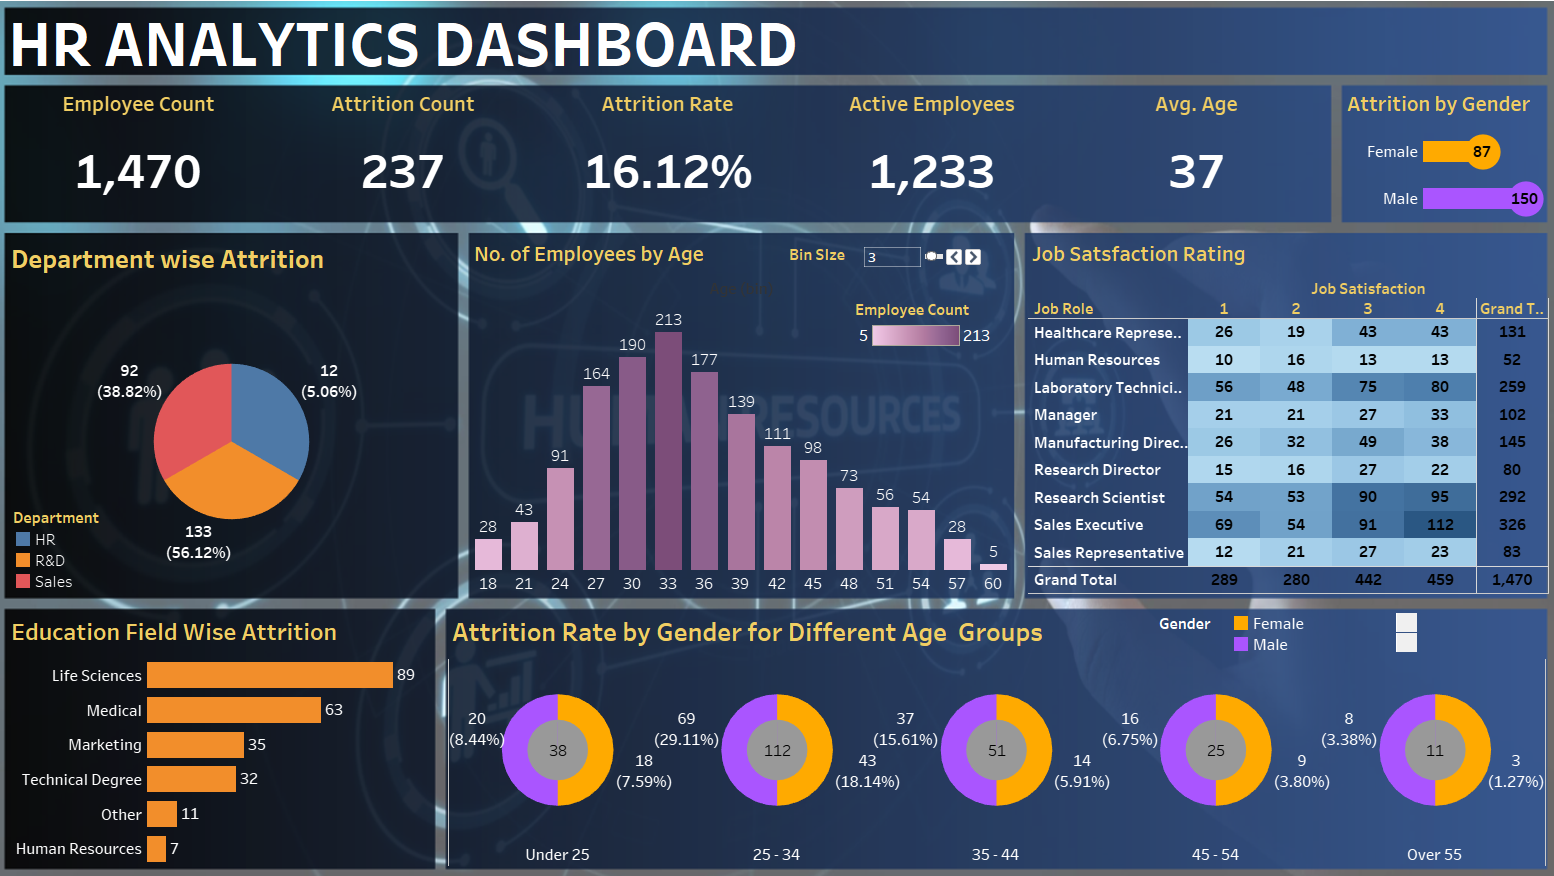

The dashboard page shown, as its layout file describes it:
{"tool":"tableau","page":{"name":"HR Analytics Dashboard","canvas":[1580,900],"ordinal":0},"visuals":[{"type":"image","param":"C:/Users/Rohan Patil/Downloads/HR background.pptx.png","box":[8,8,1564,884]},{"type":"text","box":[19,20,1542,65]},{"type":"worksheet","title":"Attrition by Gender","mark":"Automatic","rows":["Gender"],"cols":["Calculation_1852386824313016320","Calculation_1852386824313016320"],"box":[1357,96,206,137]},{"type":"worksheet","title":"KPI","mark":"Automatic","box":[20,98,1323,132]},{"type":"worksheet","title":"No. of Employees by Age","mark":"Automatic","rows":["Employee Count"],"cols":["Age (bin)"],"box":[484,246,542,360]},{"type":"worksheet","title":"Job Satsfaction Rating","mark":"Square","rows":["Job Role"],"cols":["Job Satisfaction"],"box":[1042,246,521,359]},{"type":"worksheet","title":"Department wise Attrition","mark":"Pie","box":[21,248,449,360]},{"type":"parameter","param":"[Parameters].[Parameter 1]","box":[803,255,195,35]},{"type":"legend","title":"No. of Employees by Age","param":"[federated.0n7qf5g1jqgfeu17df6gg0q9oout].[sum:Employee Count:qk]","box":[869,310,140,88]},{"type":"legend","title":"Department wise Attrition","param":"[federated.0n7qf5g1jqgfeu17df6gg0q9oout].[none:Department:nk]","box":[27,518,140,85]},{"type":"worksheet","title":"Attrition Rate by Gender for Different Age  Groups","mark":"Pie","rows":["Calculation_797700086684749825","Calculation_797700086684749825"],"cols":["CF_age band"],"box":[462,621,1098,257]},{"type":"worksheet","title":"Education Field Wise Attrition","mark":"Automatic","rows":["Education Field"],"cols":["Calculation_1852386824313016320"],"box":[21,622,425,255]},{"type":"legend","title":"Attrition Rate by Gender for Different Age  Groups","param":"[federated.0n7qf5g1jqgfeu17df6gg0q9oout].[none:Gender:nk]","box":[1173,624,260,39]}]}

Visuals, with their boxes in screenshot pixels (x1, y1, x2, y2), scaled from the page's 1580x900 canvas onto the 1554x876 screenshot:
image: <bbox>8, 8, 1546, 868</bbox>
text: <bbox>19, 19, 1535, 83</bbox>
"Attrition by Gender" worksheet: <bbox>1335, 93, 1537, 227</bbox>
"KPI" worksheet: <bbox>20, 95, 1321, 224</bbox>
"No. of Employees by Age" worksheet: <bbox>476, 239, 1009, 590</bbox>
"Job Satsfaction Rating" worksheet (Square marks): <bbox>1025, 239, 1537, 589</bbox>
"Department wise Attrition" worksheet (Pie marks): <bbox>21, 241, 462, 592</bbox>
parameter: <bbox>790, 248, 982, 282</bbox>
"No. of Employees by Age" legend: <bbox>855, 302, 992, 387</bbox>
"Department wise Attrition" legend: <bbox>27, 504, 164, 587</bbox>
"Attrition Rate by Gender for Different Age  Groups" worksheet (Pie marks): <bbox>454, 604, 1534, 855</bbox>
"Education Field Wise Attrition" worksheet: <bbox>21, 605, 439, 854</bbox>
"Attrition Rate by Gender for Different Age  Groups" legend: <bbox>1154, 607, 1409, 645</bbox>
